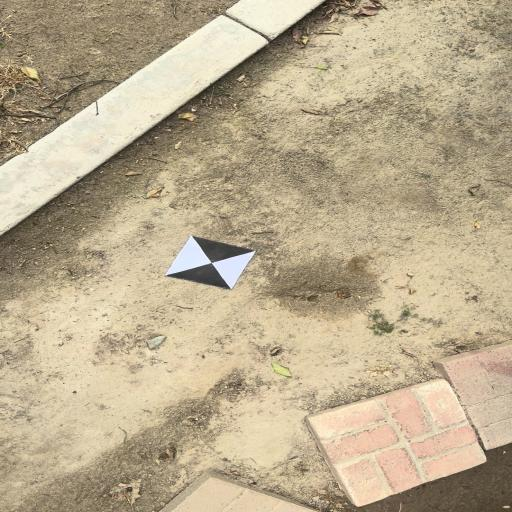target: (165, 236, 256, 287)
